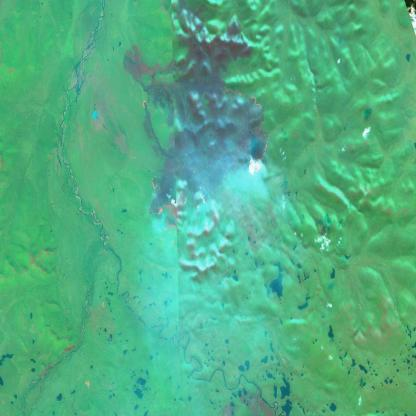fire: (218, 81, 272, 178), (142, 179, 211, 226), (134, 95, 154, 123)
